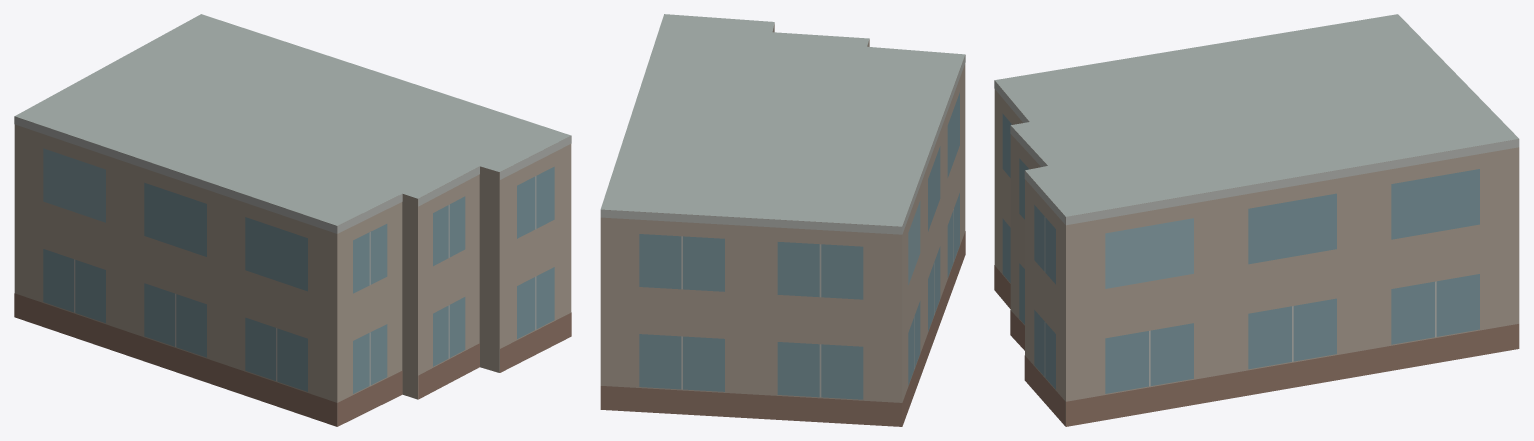
Rendered from survey-upis-32850707.glb.
3 views of the same model, side by side, from view 1: azimuth 30°, elevation 25°; view 2: azimuth 150°, elevation 25°; view 3: azimuth 270°, elevation 25° (orthographic). The views are drawn at different scales.
Parts seen in each view (by area): view 1: survey-upis-32850707.tmp; view 2: survey-upis-32850707.tmp; view 3: survey-upis-32850707.tmp.
Boxes of the visible parts, x1=… form: survey-upis-32850707.tmp: x1=14, y1=14, x2=571, y2=426; survey-upis-32850707.tmp: x1=600, y1=14, x2=965, y2=426; survey-upis-32850707.tmp: x1=994, y1=14, x2=1519, y2=426.
Bounding box in the file's own units: 12.65 × 6.1 × 13.83.
